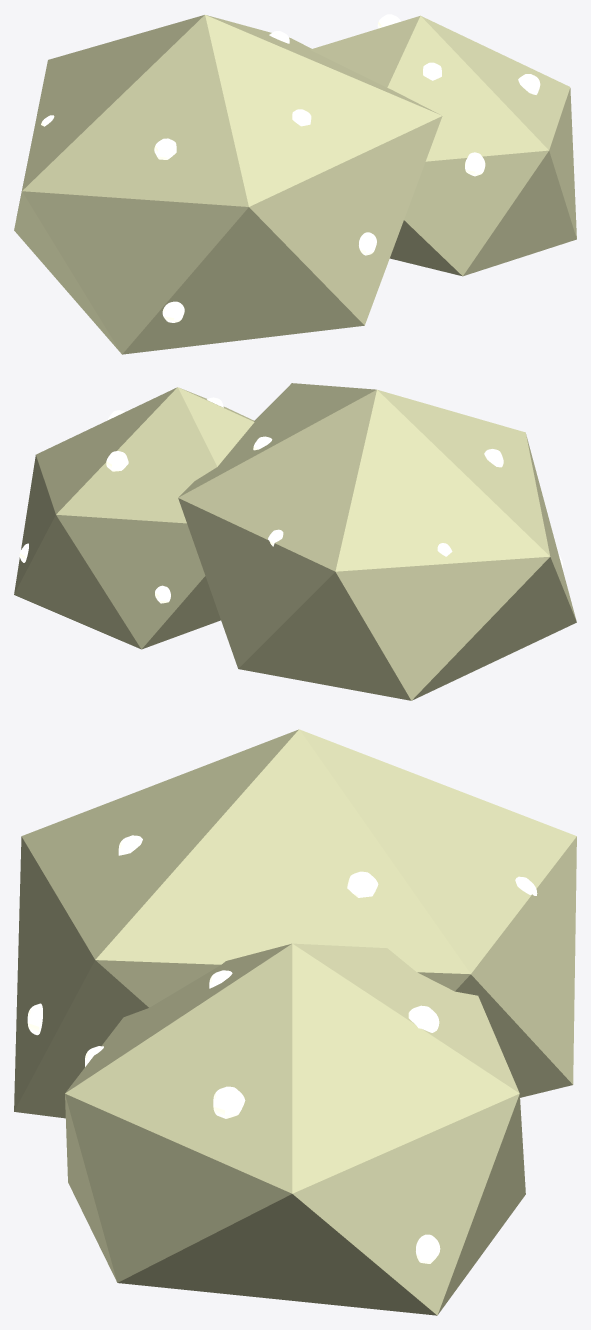
Rendered from Bosje 3 fixed.fbx.
3 renders of one model, top to bottom at view 1: azimuth 30°, elevation 25°; view 2: azimuth 150°, elevation 25°; view 3: azimuth 270°, elevation 25°, orthographic. The views are drawn at different scales.
Visible parts, largest first — view 1: Bosje 3 emission.012; view 2: Bosje 3 emission.012; view 3: Bosje 3 emission.012.
Part boxes in pixels (x1,y1,x2,y2): Bosje 3 emission.012: [14, 14, 576, 354]; Bosje 3 emission.012: [14, 383, 576, 700]; Bosje 3 emission.012: [14, 729, 576, 1315].
Size of the model in its own units: 365 by 177 by 236.
